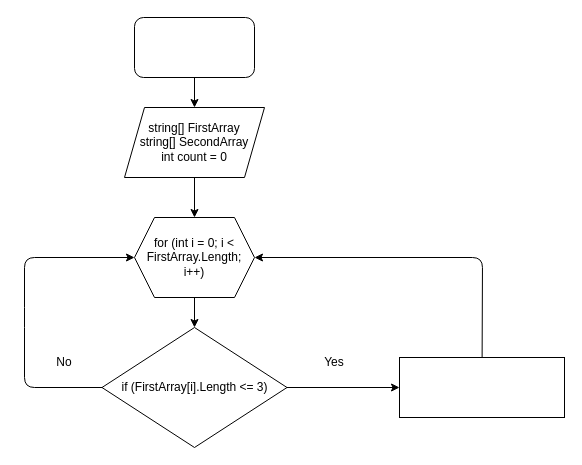
This 582x465 diagram has some shape labels left out. Each missing label, with the box of its shape:
NewArrayCreator: (134, 16, 254, 78)
SecondArray[count] = FirstArray[i] count++: (398, 356, 564, 418)
